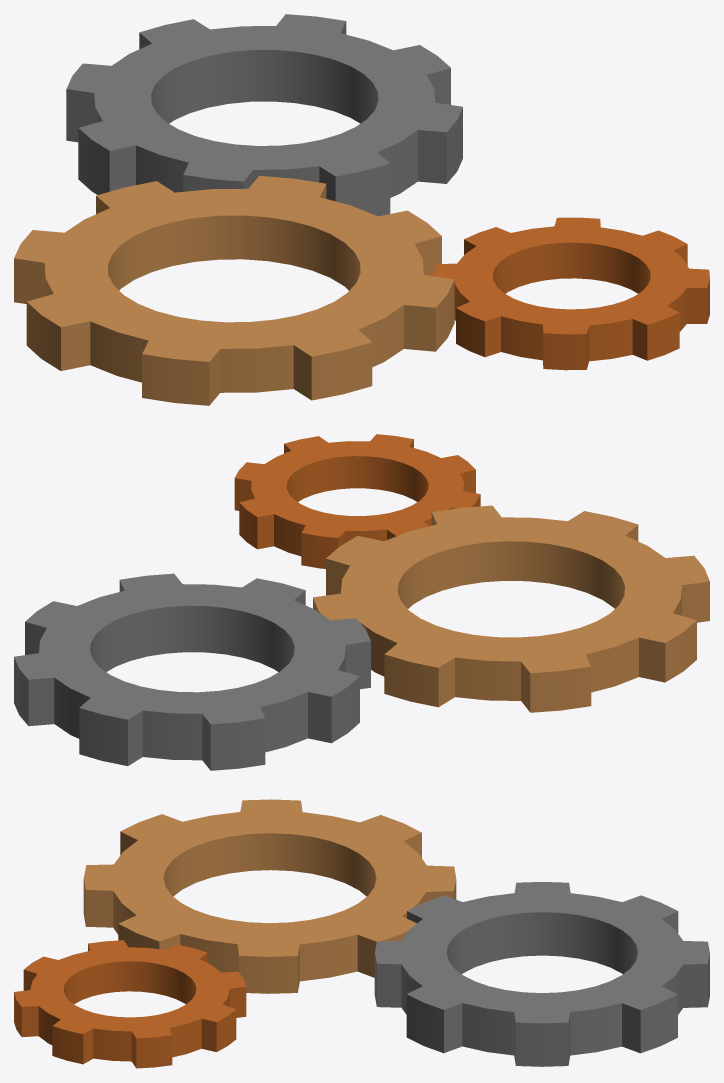
The model's file is Gears.fbx.
3 views of the same model, one above another, from view 1: azimuth 30°, elevation 25°; view 2: azimuth 150°, elevation 25°; view 3: azimuth 270°, elevation 25° (orthographic). The views are drawn at different scales.
Visible parts, largest first — view 1: Settings.001; view 2: Settings.001; view 3: Settings.001.
Boxes of the visible parts, x1=… form: Settings.001: x1=14, y1=14, x2=709, y2=405; Settings.001: x1=14, y1=434, x2=709, y2=770; Settings.001: x1=14, y1=799, x2=709, y2=1068.
Bounding box in the file's own units: 73.85 × 6.44 × 93.6.
